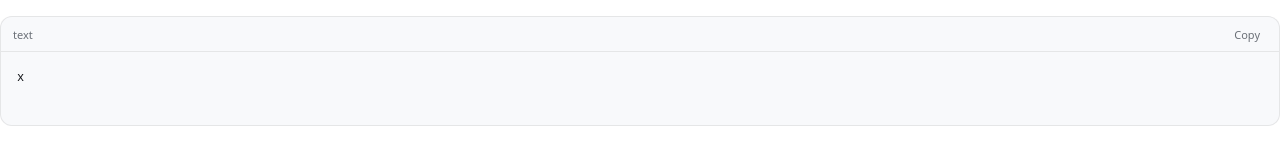
Test case: Markdown › copies the exact code and reports clipboard errors
This screenshot has width=1280, height=160.
Later steps or results of the test are not shown.
Click the button "Copy" at [1247, 34], box [1227,24,1267,44]
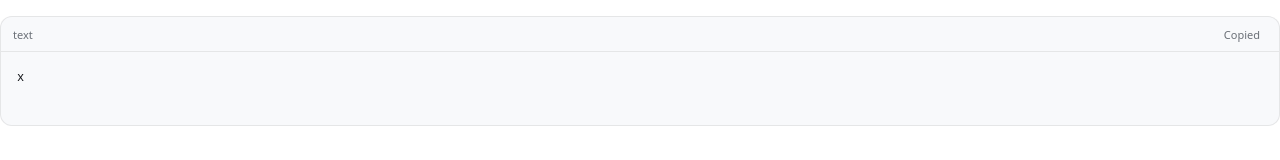
Now the button reads "Copied", box [1217,24,1267,44]
